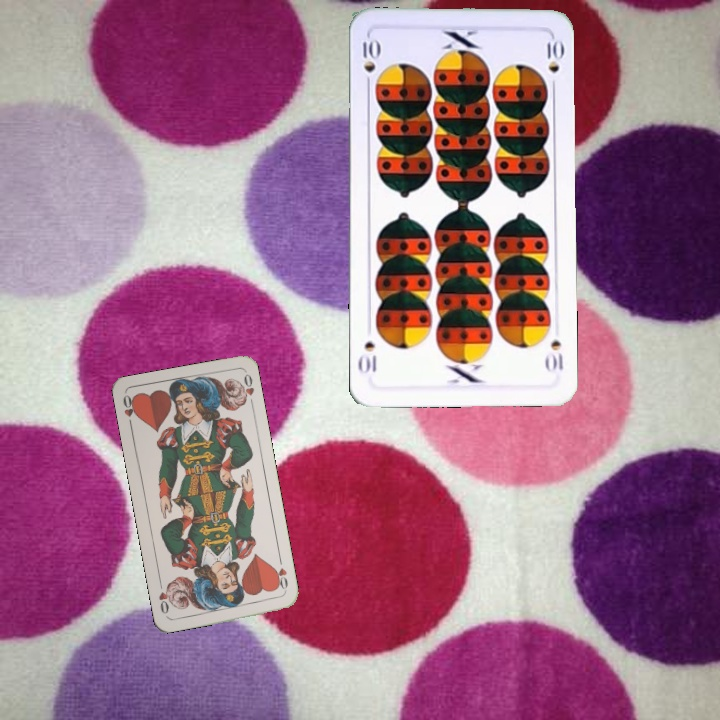HO: (270, 555, 290, 595), (119, 391, 139, 431)
S10: (359, 35, 380, 91), (547, 337, 566, 374)
